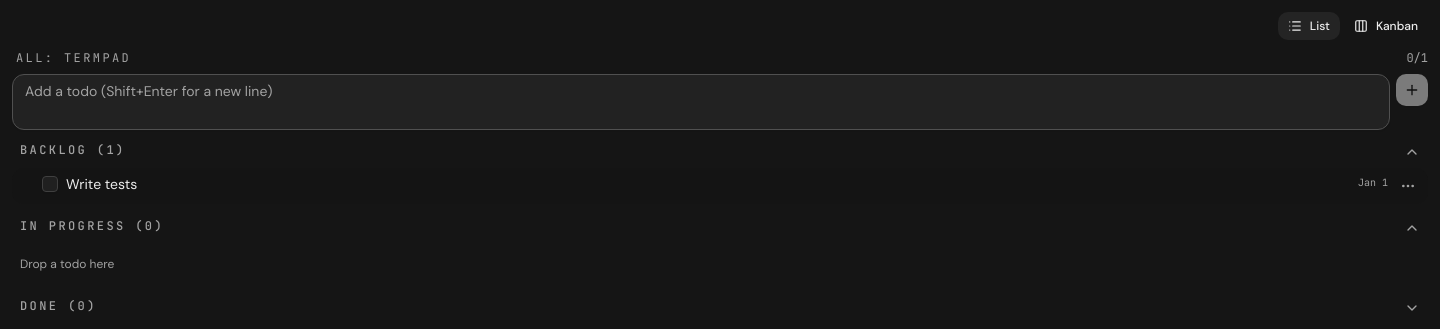
Scenario: TodosPanel › edits a todo
Click the button "Write tests" at (102, 184), box 66,174 -> 1350,194
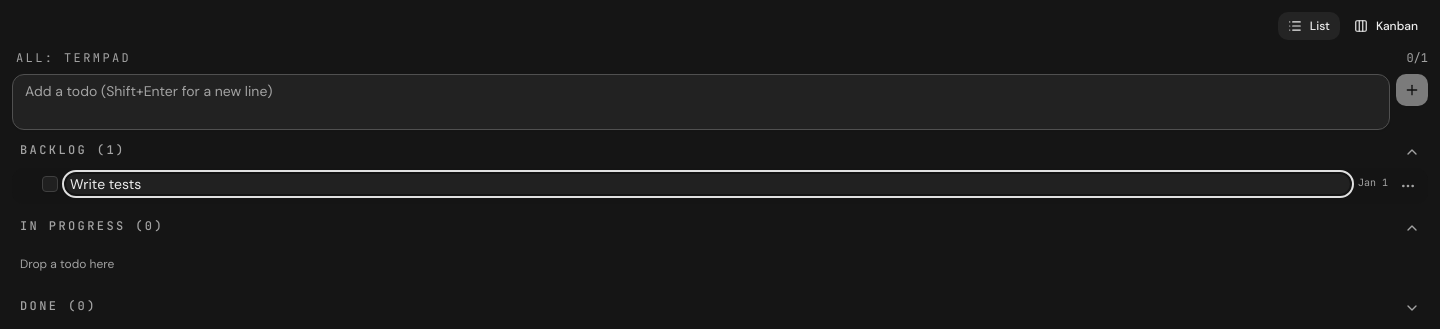
Replace the text in the text box named "Edit \"Write tests\"" with "Write more tests" at (708, 184), box 66,174 -> 1350,194
Then press Enter
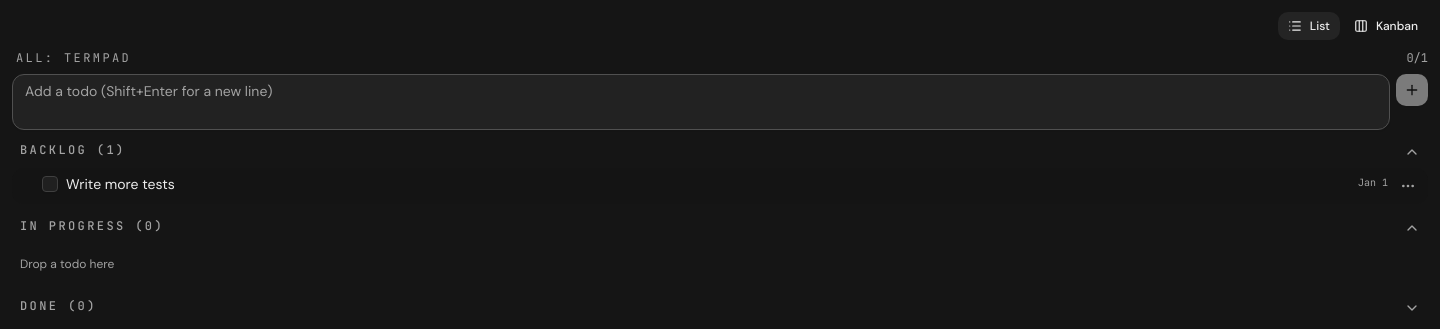
Result: the button "Write more tests" is shown at 66,174 -> 1350,194
